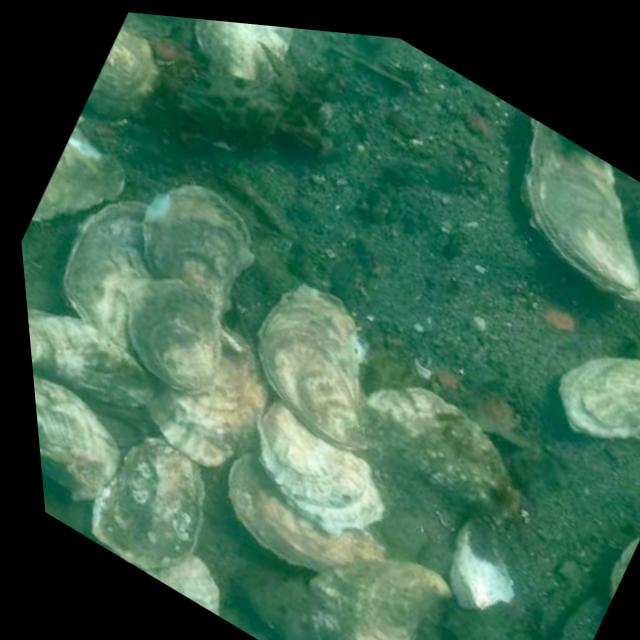Oyster-Indeterminate: (520, 119, 640, 302), (364, 386, 514, 523), (227, 455, 389, 573), (257, 285, 369, 449), (145, 323, 269, 467), (62, 199, 159, 382), (258, 399, 383, 538), (142, 185, 254, 313), (93, 437, 204, 566), (28, 310, 156, 408), (310, 557, 450, 640), (127, 277, 222, 393), (33, 377, 121, 501), (32, 129, 128, 218), (85, 26, 160, 122), (558, 357, 640, 438), (196, 19, 294, 85), (447, 518, 515, 611), (147, 556, 221, 617), (122, 12, 190, 37)
